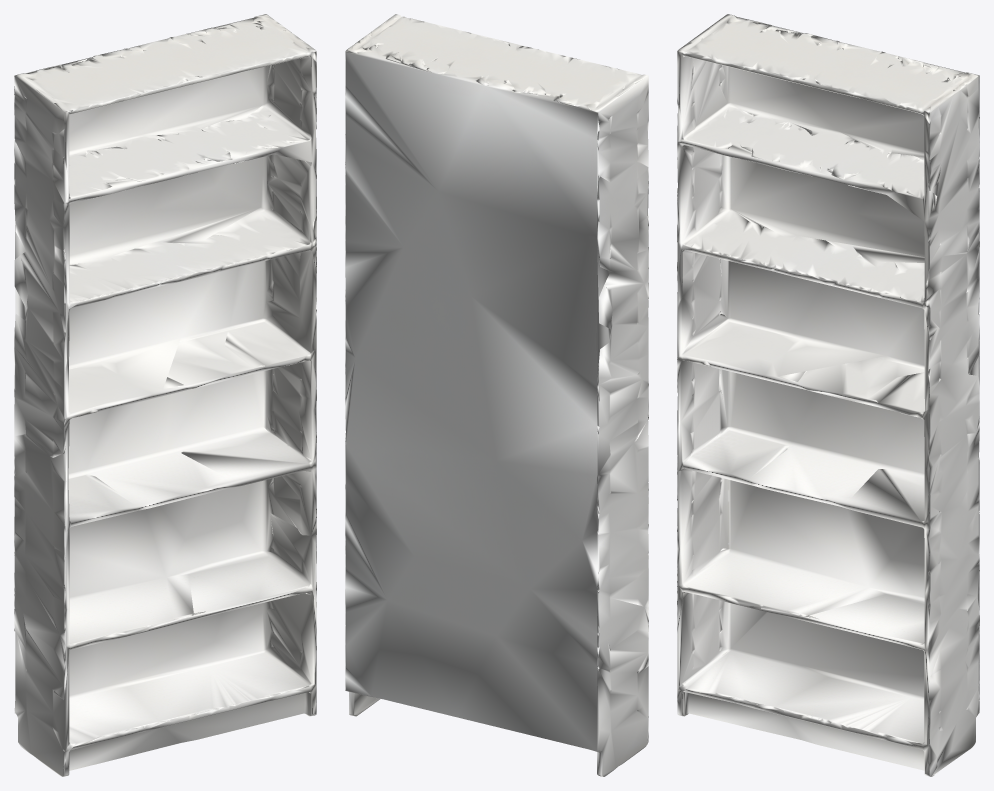
Rendered from meshy-ikea-20522046.glb.
3 views of the same model, side by side, from view 1: azimuth 30°, elevation 25°; view 2: azimuth 150°, elevation 25°; view 3: azimuth 330°, elevation 25° (orthographic).
Parts seen in each view (by area): view 1: Exact catalog scale: ikea-20522046; view 2: Exact catalog scale: ikea-20522046; view 3: Exact catalog scale: ikea-20522046.
Boxes of the visible parts, x1,y1,x2,y2 form: Exact catalog scale: ikea-20522046: [14, 14, 316, 776]; Exact catalog scale: ikea-20522046: [345, 14, 648, 776]; Exact catalog scale: ikea-20522046: [677, 14, 979, 776].
Size of the model in its own units: 0.8 by 2.02 by 0.279.
1 material, 1 textured.
